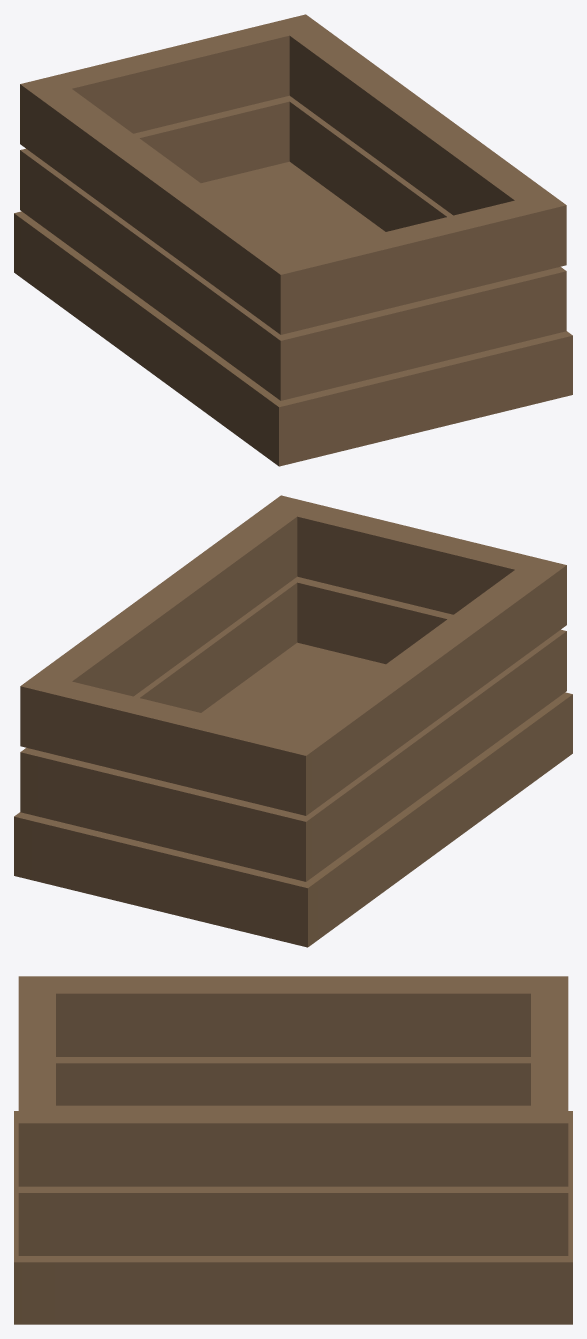
3 renders of one model, top to bottom at view 1: azimuth 30°, elevation 25°; view 2: azimuth 150°, elevation 25°; view 3: azimuth 270°, elevation 25°, orthographic. The views are drawn at different scales.
Parts seen in each view (by area): view 1: Box_1; view 2: Box_1; view 3: Box_1.
Part boxes in pixels (x1=…): Box_1: x1=14, y1=14, x2=572, y2=466; Box_1: x1=14, y1=495, x2=572, y2=947; Box_1: x1=14, y1=976, x2=572, y2=1324.
Bounding box in the file's own units: 13.36 × 8.21 × 20.88.
1 material, 1 textured.
